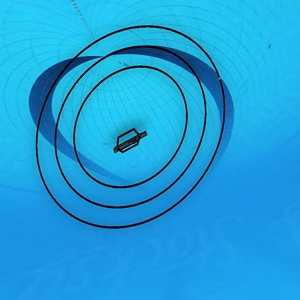circle: (25, 17, 239, 247)
submarine: (115, 125, 148, 159)
